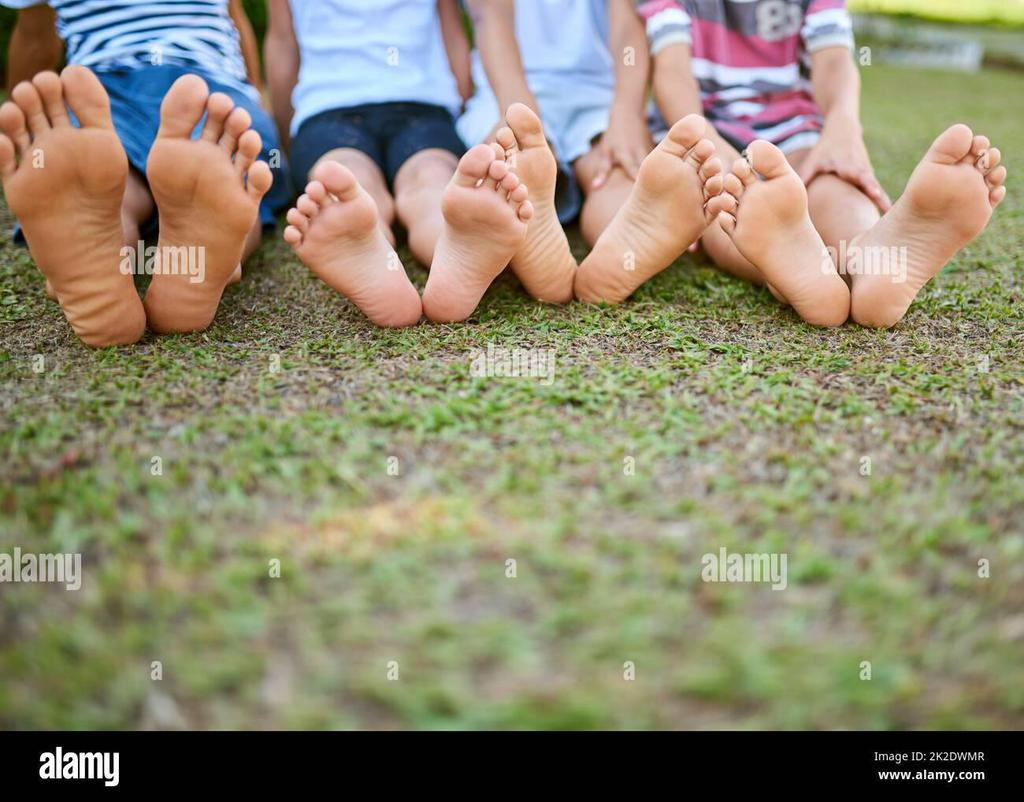child: (658, 1, 967, 341), (1, 1, 276, 352), (256, 1, 509, 344), (465, 1, 698, 315)
